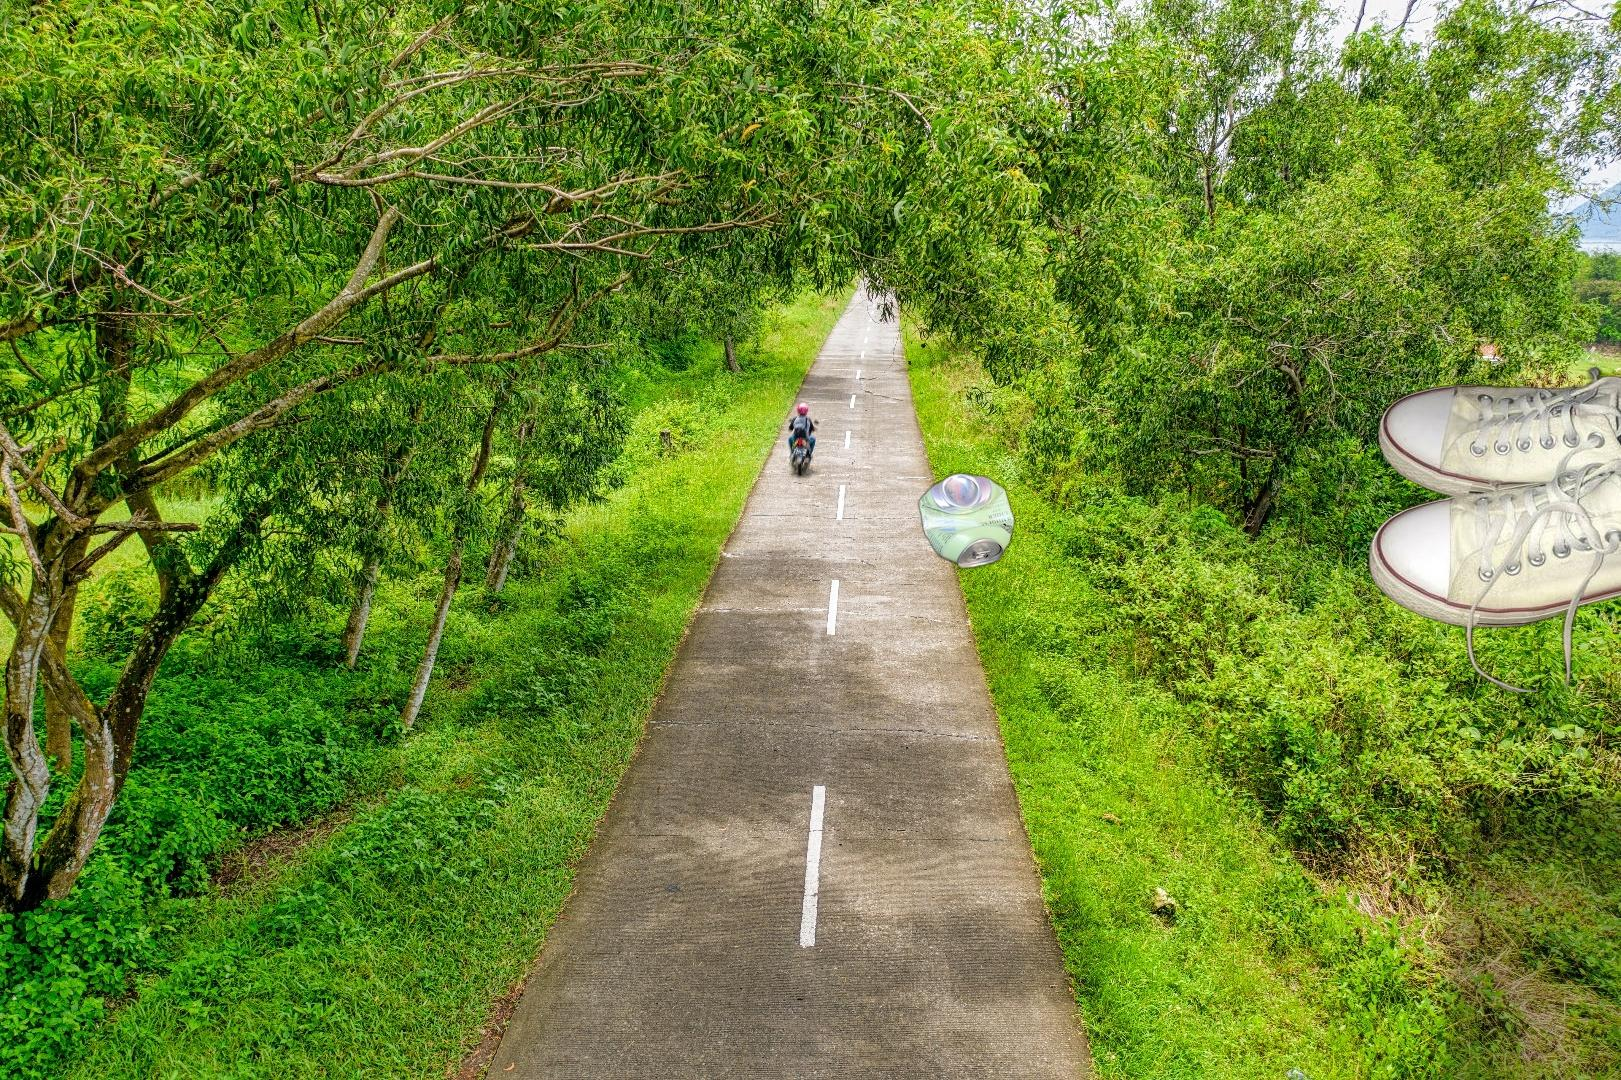metal-cans: (914, 466, 1190, 815)
shoes: (1364, 363, 1621, 692)
trashbox-cardboard: (1181, 759, 1621, 1080)
